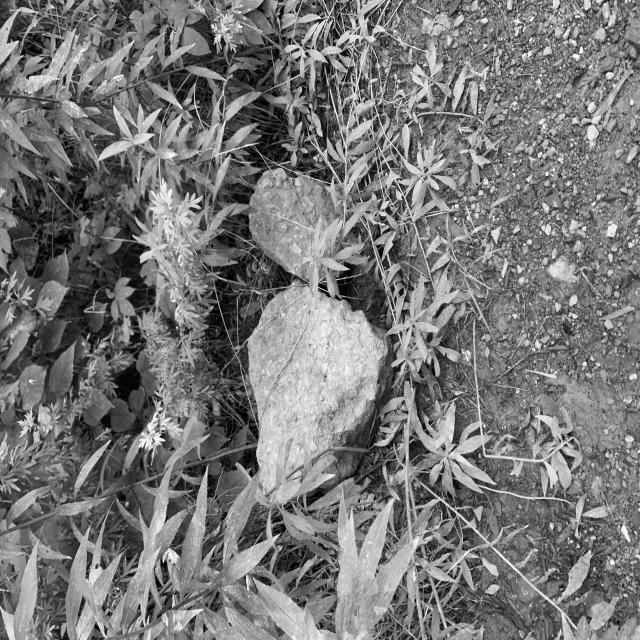Stone: (248, 285, 392, 493), (249, 169, 336, 279)
